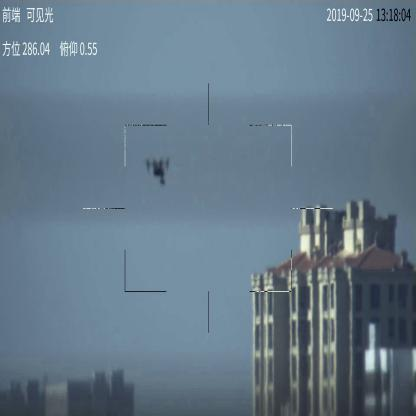uav: (145, 155, 170, 186)
